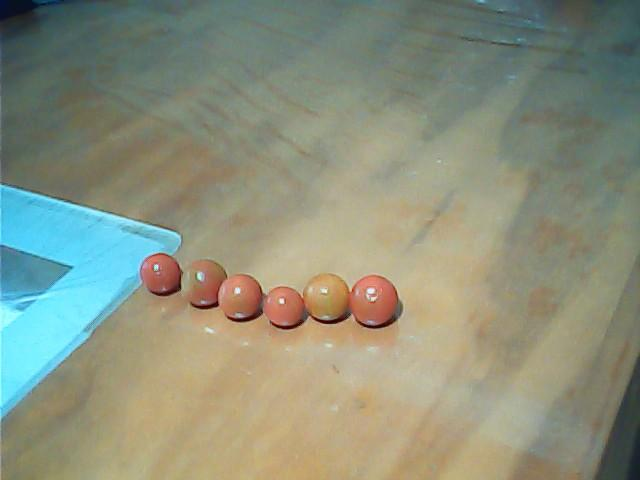maduro: (351, 275, 399, 327), (141, 252, 179, 293), (264, 287, 304, 325)
verde: (180, 259, 228, 308), (303, 274, 350, 321), (218, 274, 262, 321)
